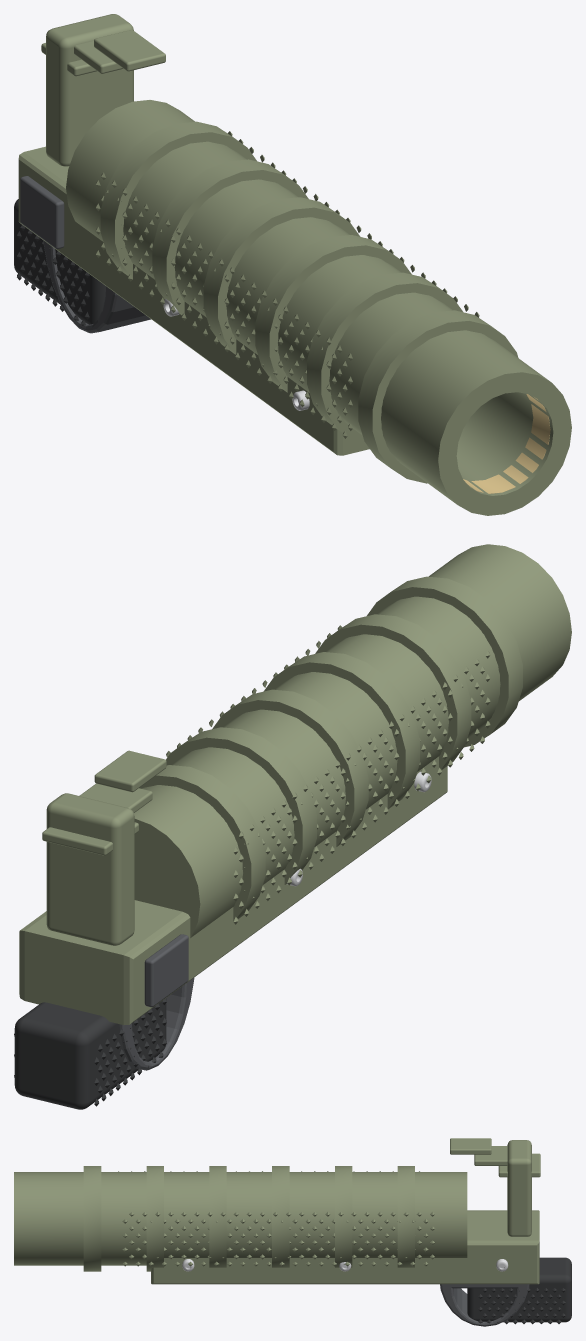
Rendered from mega-weapon-pack-underbarrel-grenade-launcher-89280ba6__33354.glb.
3 views of the same model, one above another, from view 1: azimuth 30°, elevation 25°; view 2: azimuth 150°, elevation 25°; view 3: azimuth 270°, elevation 25° (orthographic). The views are drawn at different scales.
Parts seen in each view (by area): view 1: pump/paintOlive, underbarrel-grenade-launcher, pump/brass; view 2: pump/paintOlive, underbarrel-grenade-launcher; view 3: pump/paintOlive, underbarrel-grenade-launcher.
Part boxes in pixels (x1,y1,x2,y2): pump/paintOlive: (66, 100, 571, 515); underbarrel-grenade-launcher: (14, 14, 369, 455); pump/brass: (463, 394, 550, 493); pump/paintOlive: (134, 544, 571, 937); underbarrel-grenade-launcher: (14, 750, 447, 1109); pump/paintOlive: (14, 1166, 467, 1271); underbarrel-grenade-launcher: (151, 1138, 571, 1326).
Size of the model in its own units: 0.0606 by 0.1088 by 0.32.
